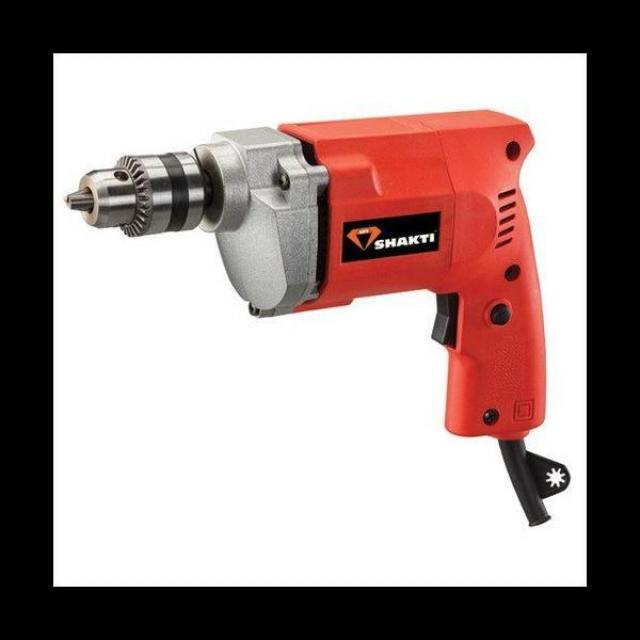drill: (65, 110, 572, 528)
